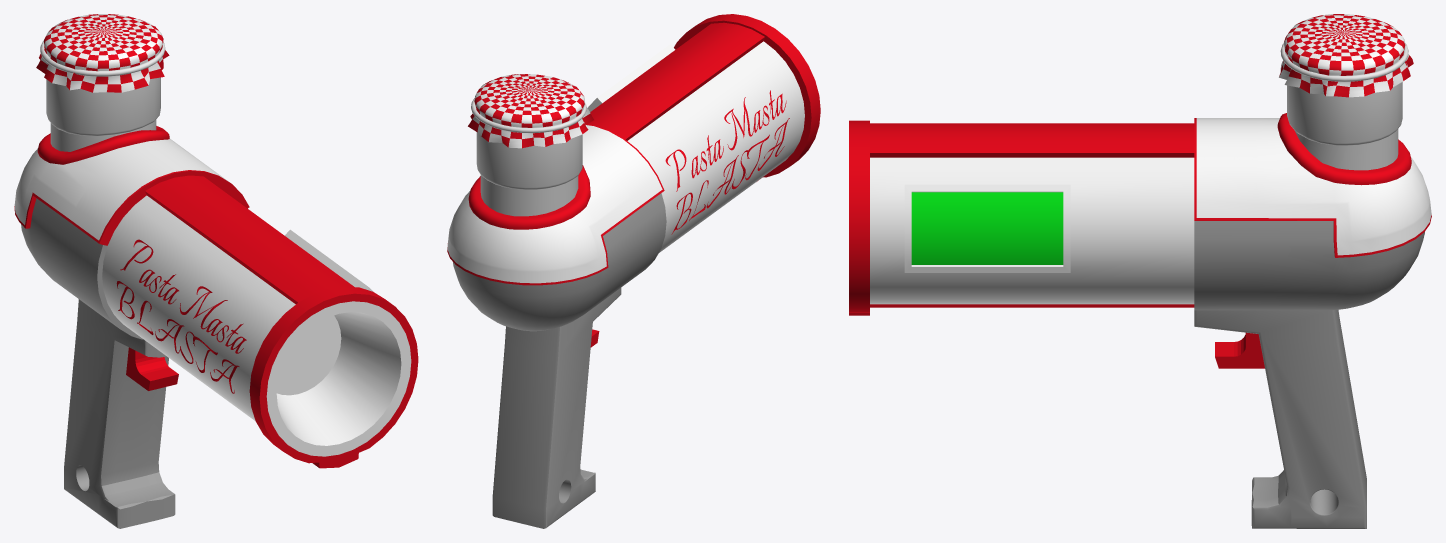
File: player1.fbx
3 views of the same model, side by side, from view 1: azimuth 30°, elevation 25°; view 2: azimuth 150°, elevation 25°; view 3: azimuth 270°, elevation 25° (orthographic). The views are drawn at different scales.
Parts seen in each view (by area): view 1: Cylinder, Circle, Cylinder.001, Cube, Text, Text.001, Torus.002; view 2: Cylinder, Cylinder.001, Circle, Text, Text.001, Torus.002; view 3: Cylinder, Circle, Cylinder.001, Cube, Torus.002.
Boxes of the visible parts, x1=… form: Cylinder: x1=14, y1=126, x2=418, y2=528; Circle: x1=36, y1=14, x2=169, y2=92; Cylinder.001: x1=46, y1=77, x2=160, y2=151; Cube: x1=126, y1=347, x2=178, y2=390; Text: x1=120, y1=239, x2=246, y2=353; Text.001: x1=116, y1=281, x2=239, y2=393; Torus.002: x1=40, y1=40, x2=165, y2=76; Cylinder: x1=447, y1=14, x2=820, y2=528; Cylinder.001: x1=476, y1=132, x2=582, y2=216; Circle: x1=468, y1=74, x2=593, y2=148; Text: x1=665, y1=90, x2=786, y2=191; Text.001: x1=671, y1=118, x2=789, y2=234; Torus.002: x1=471, y1=98, x2=586, y2=133; Cylinder: x1=849, y1=113, x2=1431, y2=528; Circle: x1=1279, y1=14, x2=1413, y2=97; Cylinder.001: x1=1287, y1=82, x2=1402, y2=170; Cube: x1=1215, y1=332, x2=1264, y2=368; Torus.002: x1=1280, y1=43, x2=1408, y2=81.
Size of the model in its own units: 226 by 607 by 665.
